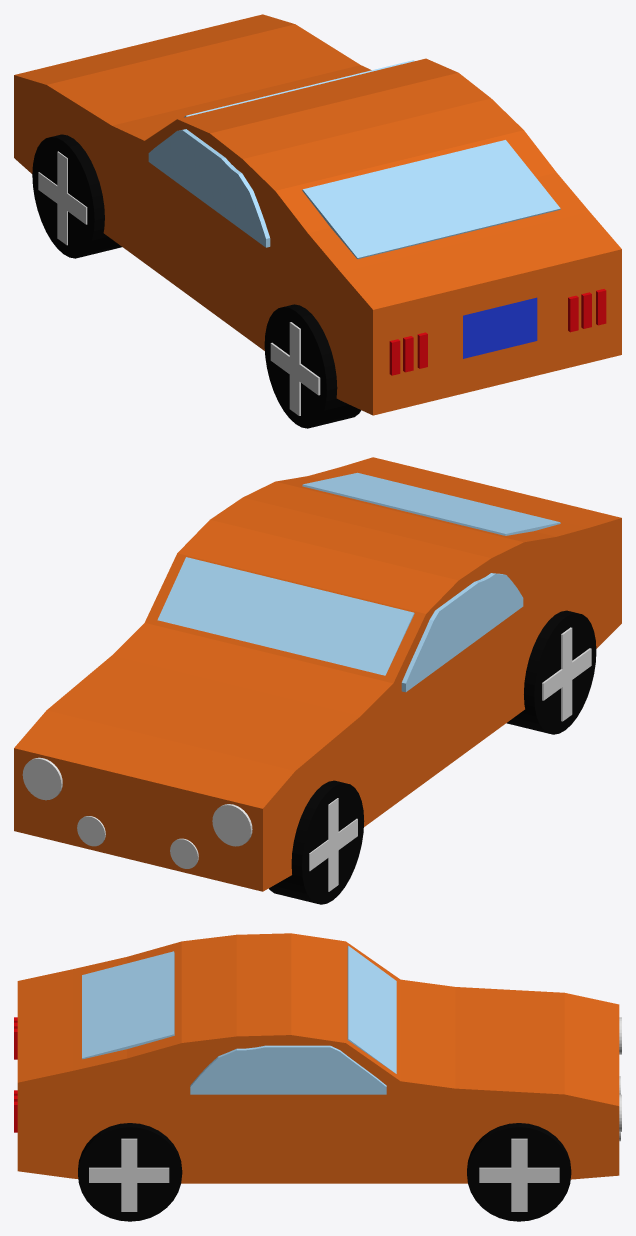
File: Orange_Car.glb
3 renders of one model, top to bottom at view 1: azimuth 30°, elevation 25°; view 2: azimuth 150°, elevation 25°; view 3: azimuth 270°, elevation 25°, orthographic. The views are drawn at different scales.
Visible parts, largest first — view 1: Car_Body, Wheels, License_Plate, TailLights, Wheel_Decoration_4, Wheel_Decoration_3; view 2: Car_Body, Wheels, Headlights, Wheel_Decoration_4, Wheel_Decoration_3; view 3: Car_Body, Wheels, Wheel_Decoration_2, Wheel_Decoration_1.
Boxes of the visible parts, x1,y1,x2,y2 form: Car_Body: (14, 14, 621, 415); Wheels: (32, 134, 361, 428); License_Plate: (463, 297, 537, 358); TailLights: (389, 289, 606, 375); Wheel_Decoration_4: (270, 322, 320, 415); Wheel_Decoration_3: (38, 151, 87, 245); Car_Body: (14, 457, 621, 891); Wheels: (269, 610, 596, 904); Headlights: (22, 757, 252, 868); Wheel_Decoration_4: (542, 627, 591, 721); Wheel_Decoration_3: (309, 798, 357, 891); Car_Body: (17, 933, 619, 1183); Wheels: (78, 1123, 571, 1221); Wheel_Decoration_2: (479, 1138, 559, 1211); Wheel_Decoration_1: (89, 1138, 169, 1211).
Size of the model in its own units: 1.32 by 1 by 3.03.
